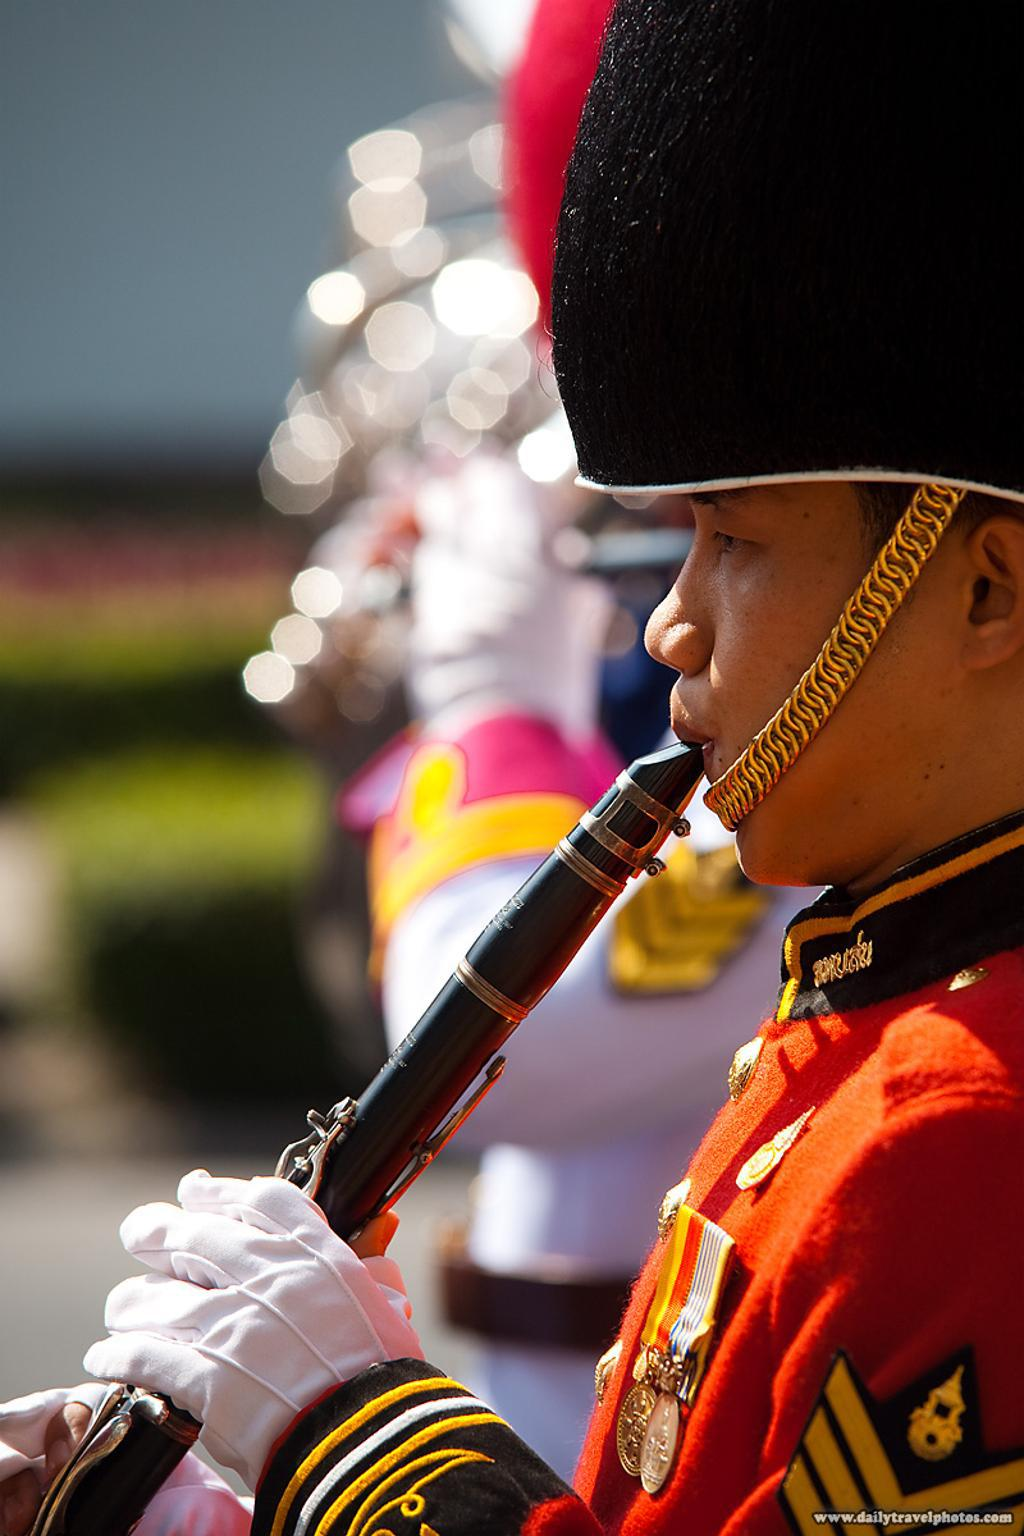face: (644, 337, 968, 890)
